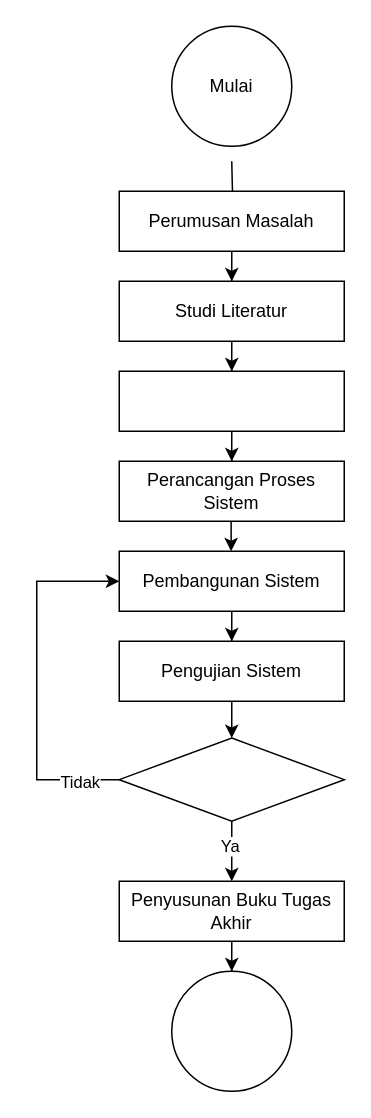
Some shapes in this 371 by 1118 pixel diagram are drawn without their labels. Here are the shapes that lost their labels. From the top down, the centre of each, then its label:
At point 231,400: "Penggalian Kebutuhan".
At point 231,778: "Apakah sudah sesuai?".
At point 231,1030: "Selesai".
